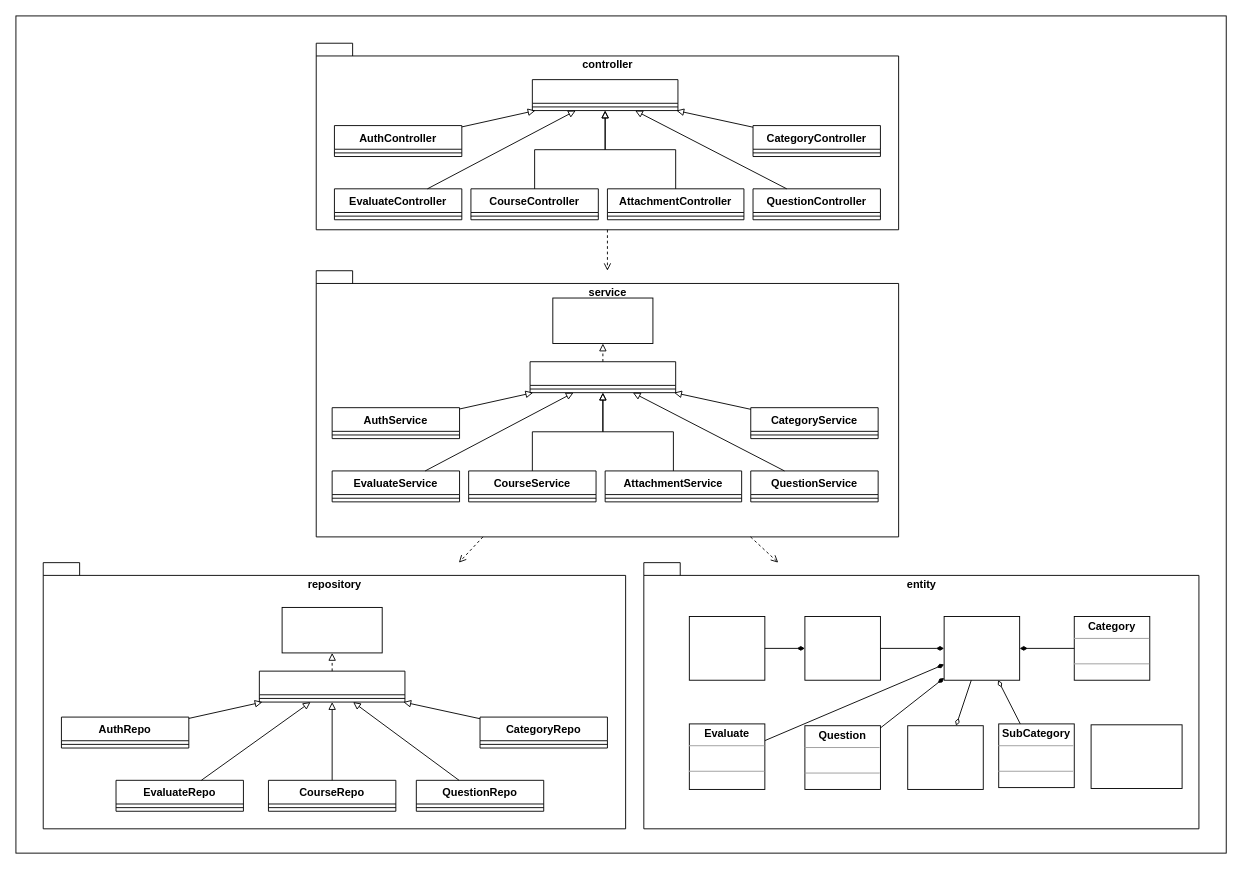
This 1242x869 diagram has some shape labels left out. The centre of each missing label's shape, as x and y in pixels:
"BaseController" belongs at point (604, 95).
"BaseRepo" belongs at point (331, 686).
"BaseService" belongs at point (602, 377).
"Chapter" belongs at point (842, 648).
"Course" belongs at point (981, 648).
"Lesson" belongs at point (726, 648).
"ServiceResult" belongs at point (1136, 756).
"User" belongs at point (945, 757).
"«interface» IBaseRepo" belongs at point (331, 630).
"«interface» IBaseService" belongs at point (602, 320).
